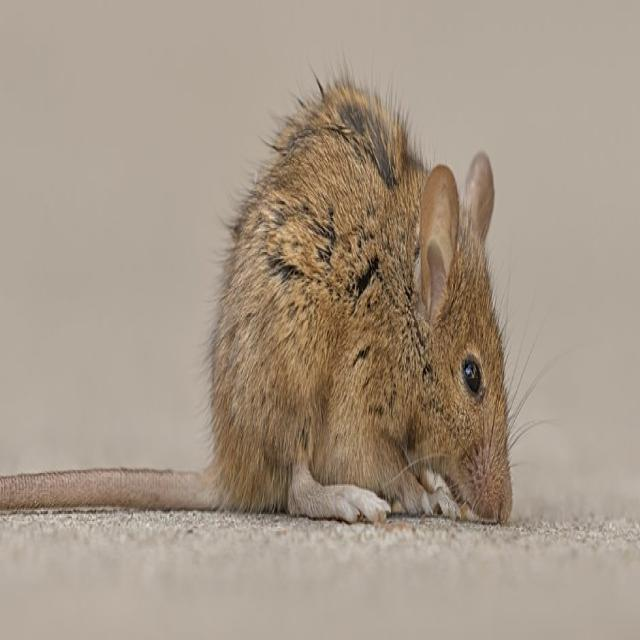Mouse: (0, 51, 518, 558)
